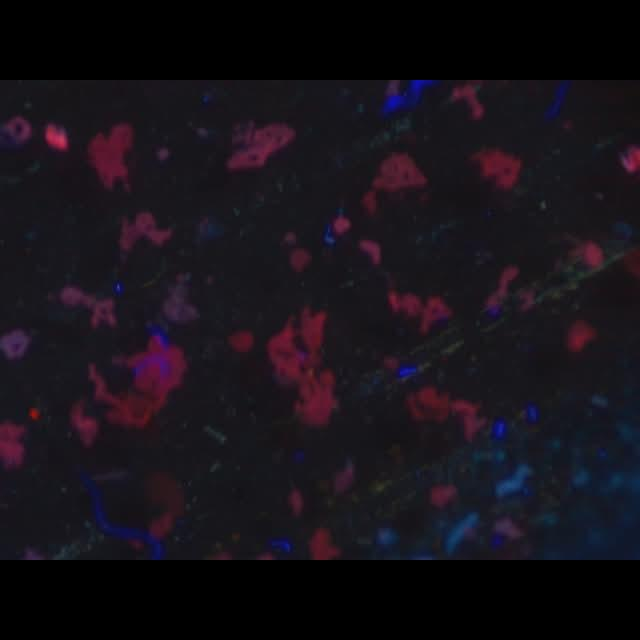Fragment: (226, 118, 294, 172), (89, 122, 133, 190)
